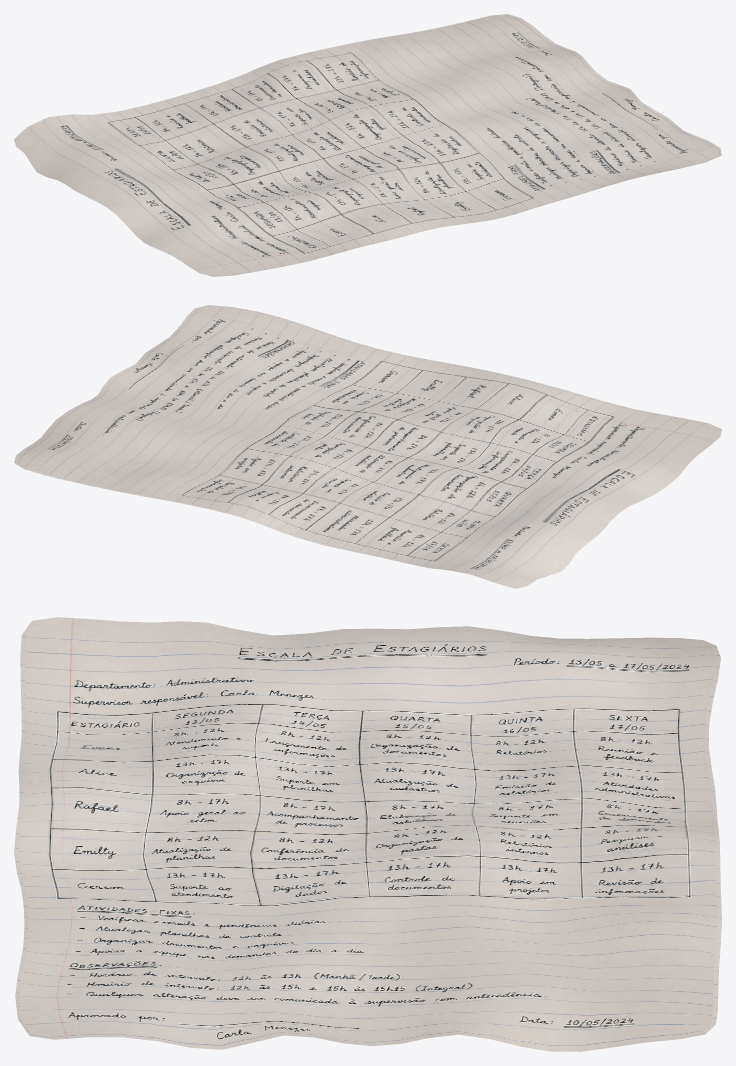
File: Papel3.fbx
3 views of the same model, one above another, from view 1: azimuth 30°, elevation 25°; view 2: azimuth 150°, elevation 25°; view 3: azimuth 270°, elevation 25° (orthographic). The views are drawn at different scales.
Parts seen in each view (by area): view 1: Papel3; view 2: Papel3; view 3: Papel3.
Boxes of the visible parts, bbox=[...] form: Papel3: bbox=[14, 14, 721, 276]; Papel3: bbox=[14, 305, 721, 588]; Papel3: bbox=[14, 617, 721, 1051].
Bounding box in the file's own units: 203 × 6.68 × 143.
Materials: 1 (1 with a texture image).
